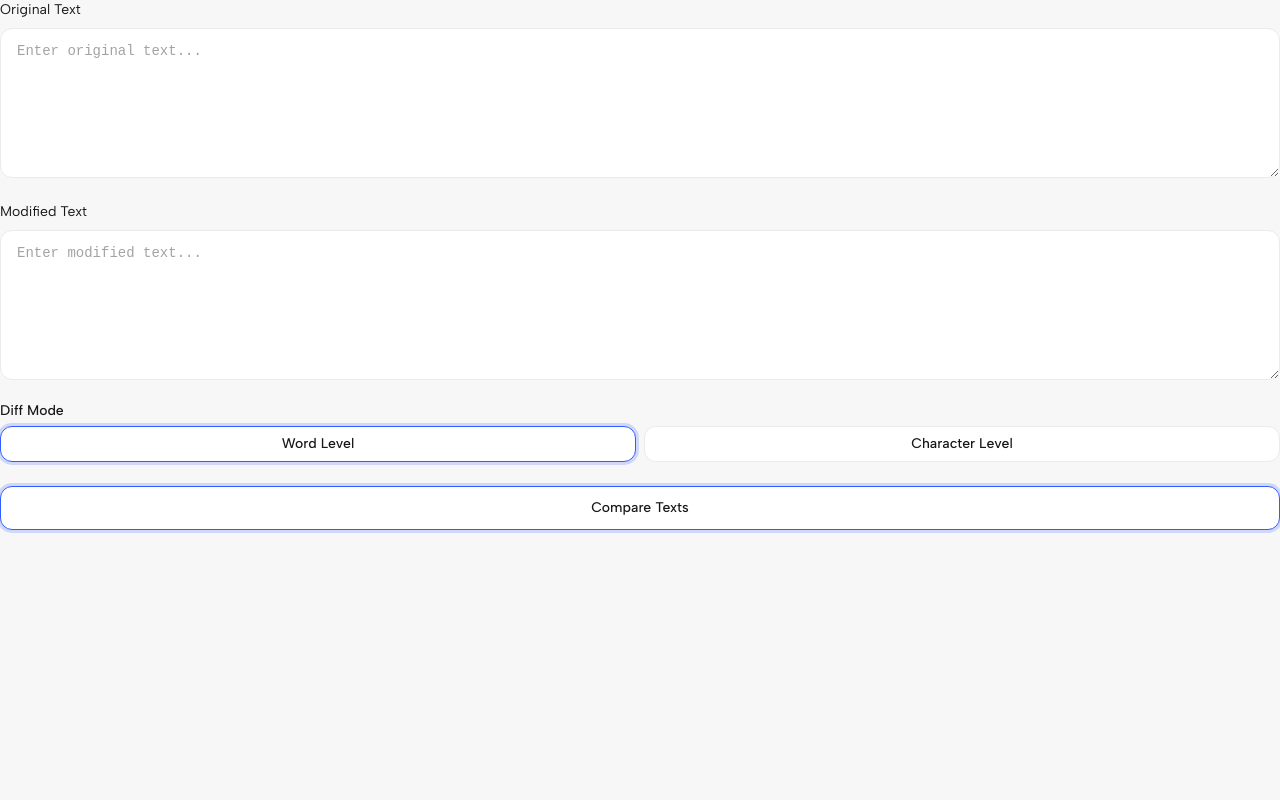
Test case: TextComparerTool › compares texts and shows differences
Type "Hello World" into the text box with placeholder "Enter original text..." at point(640, 103), box [0, 28, 1279, 178]
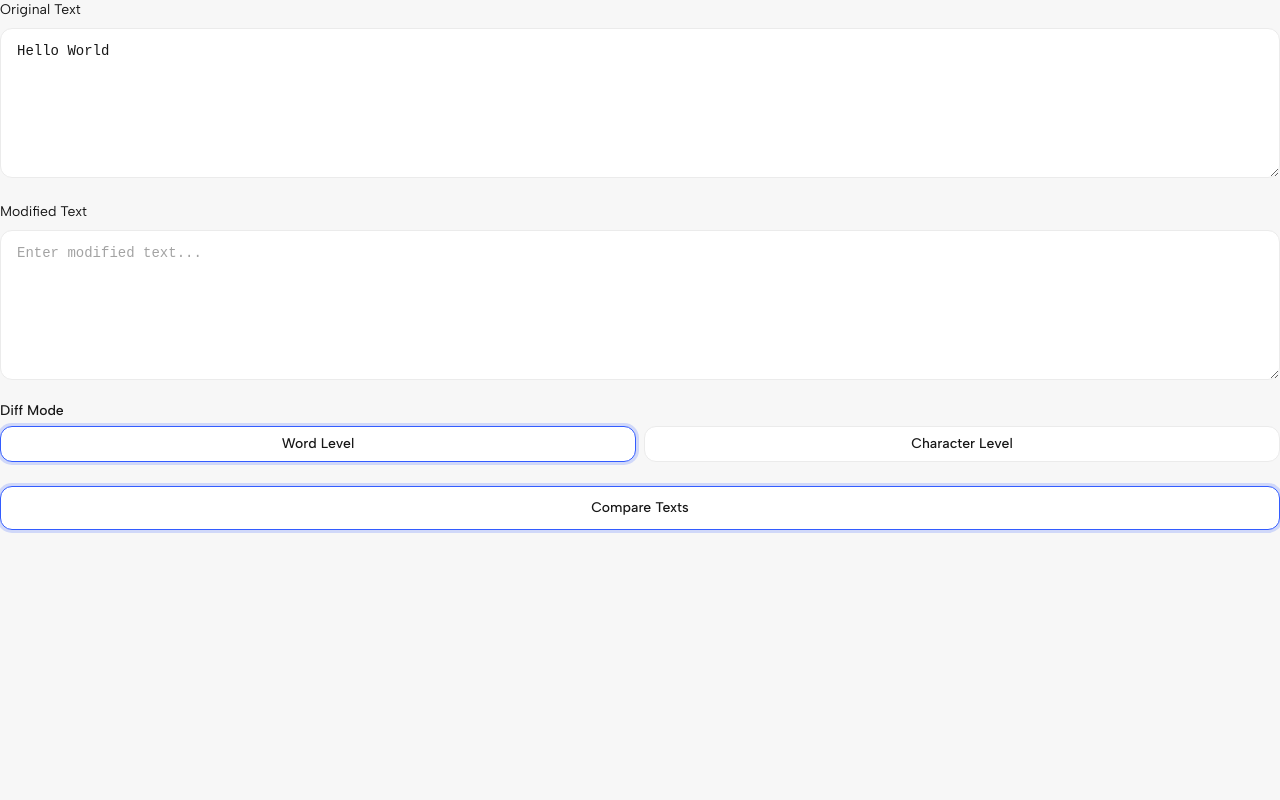
Type "Hello there World" into the text box with placeholder "Enter modified text..." at point(640, 305), box [0, 230, 1279, 380]
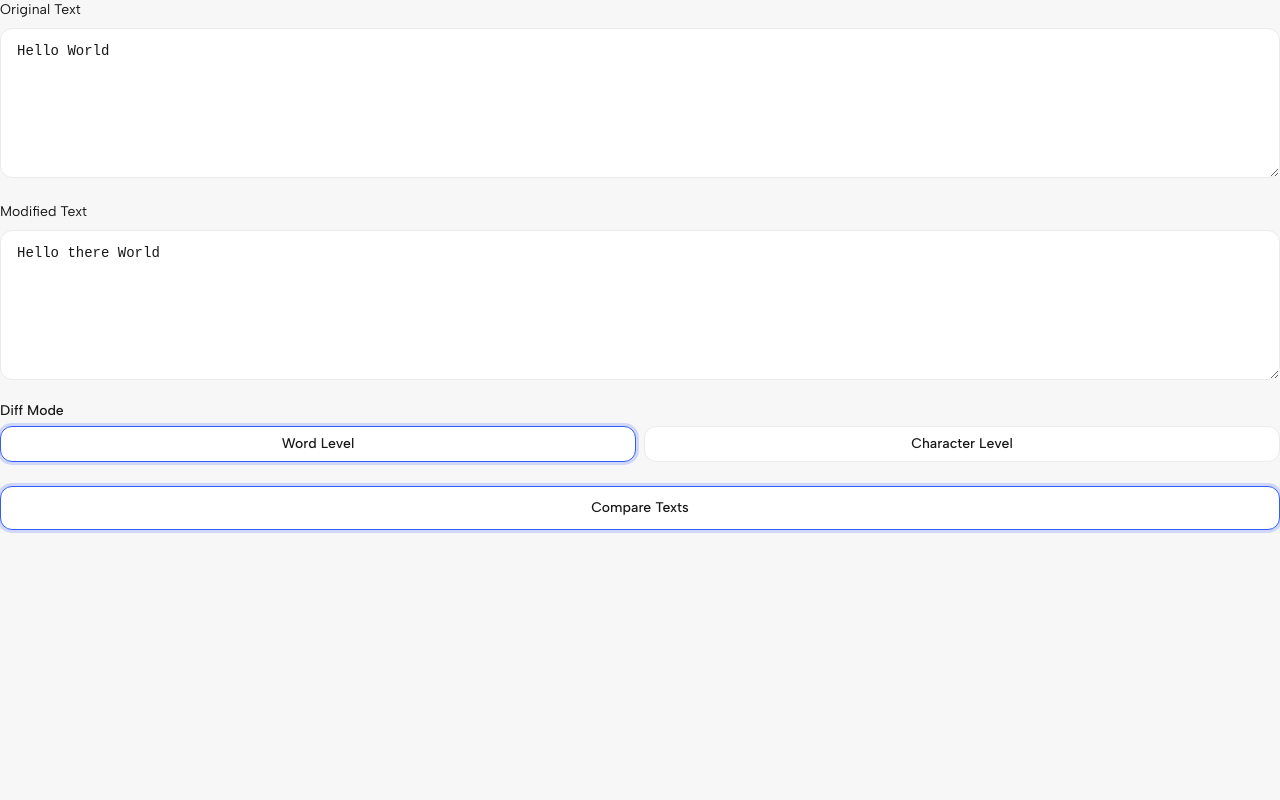
Click the button "Compare Texts" at point(640, 508), box [0, 486, 1279, 530]
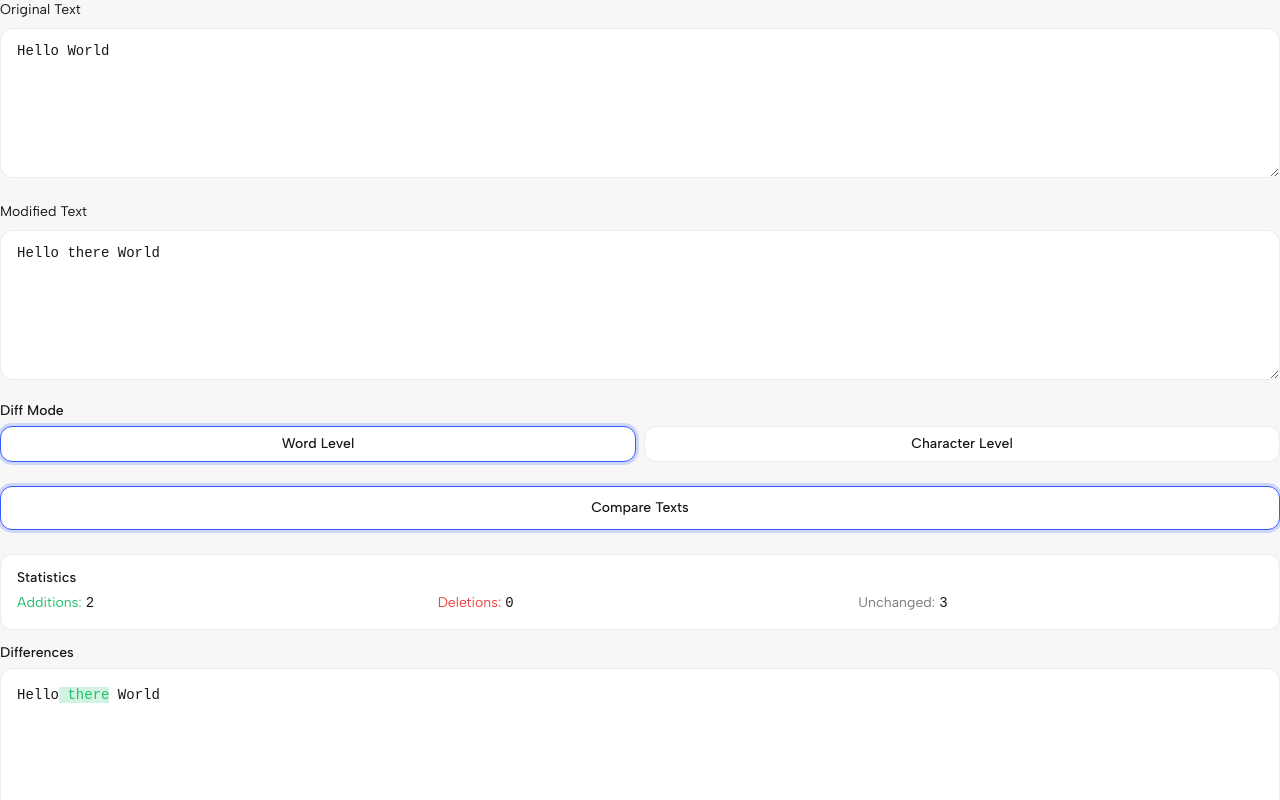
Expected: the text "Statistics" is shown, [17, 569, 76, 586]
Expected: the text "Differences" is shown, [0, 644, 74, 661]
